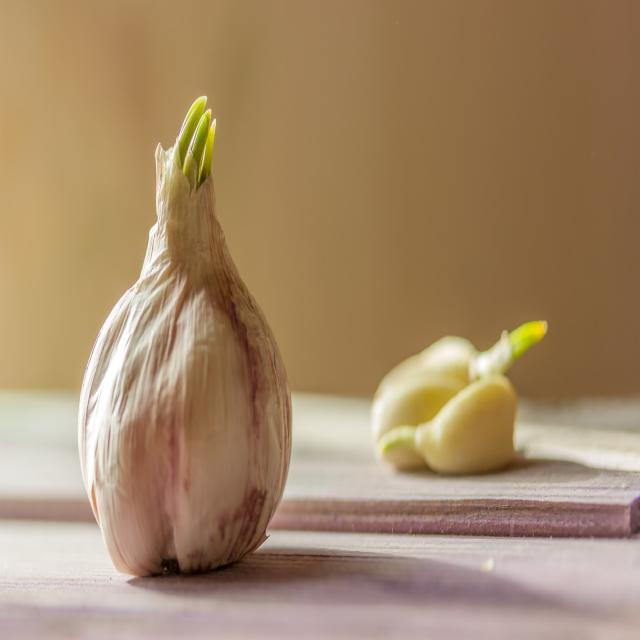garlic: (74, 229, 294, 582)
